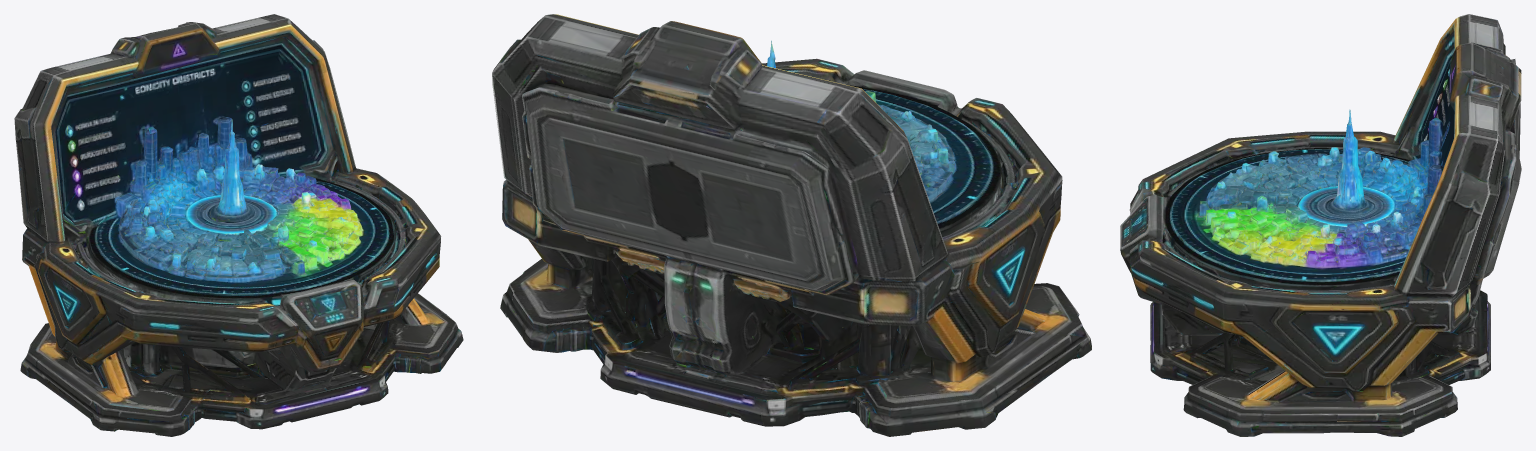
File: eoncity_district_hologram.2f0c9d9ca3f0.glb
3 views of the same model, side by side, from view 1: azimuth 30°, elevation 25°; view 2: azimuth 150°, elevation 25°; view 3: azimuth 270°, elevation 25° (orthographic). The views are drawn at different scales.
Visible parts, largest first — view 1: Mesh1.0; view 2: Mesh1.0; view 3: Mesh1.0.
Boxes of the visible parts, x1=… form: Mesh1.0: x1=14, y1=14, x2=463, y2=436; Mesh1.0: x1=492, y1=14, x2=1091, y2=436; Mesh1.0: x1=1120, y1=14, x2=1521, y2=436.
Size of the model in its own units: 1.9 by 1.37 by 1.73.
Materials: 1 (1 with a texture image).
